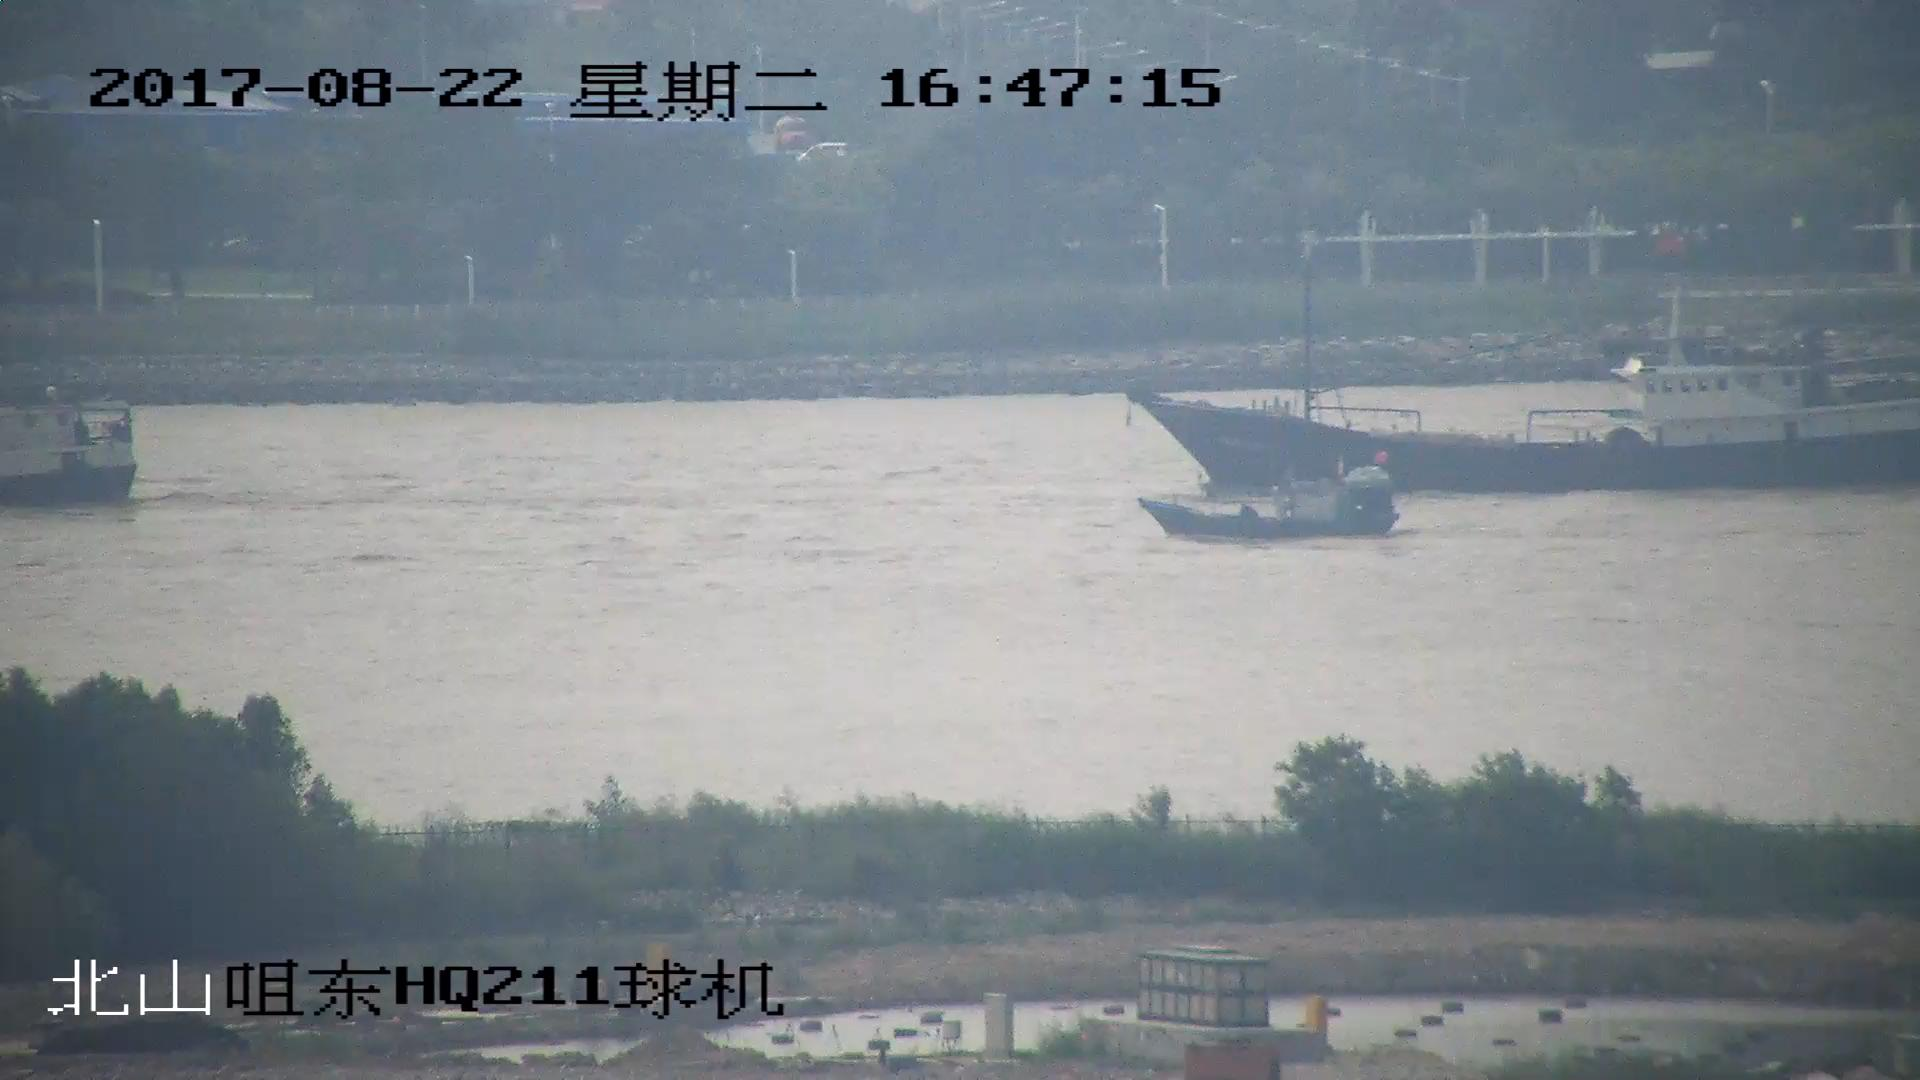fishing boat: (1140, 241, 1920, 496), (1140, 467, 1401, 544), (1, 397, 135, 501)
